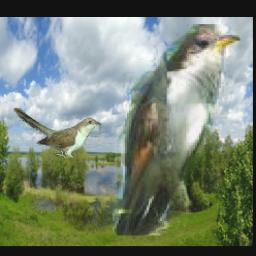Cuckoo: (113, 24, 241, 235), (14, 107, 102, 158)
